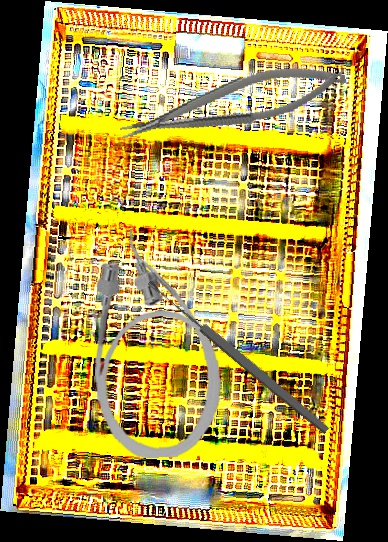Cannula: (87, 224, 225, 461)
Needle Holder: (114, 54, 351, 151)
Surgical Spoon: (144, 276, 332, 437)
